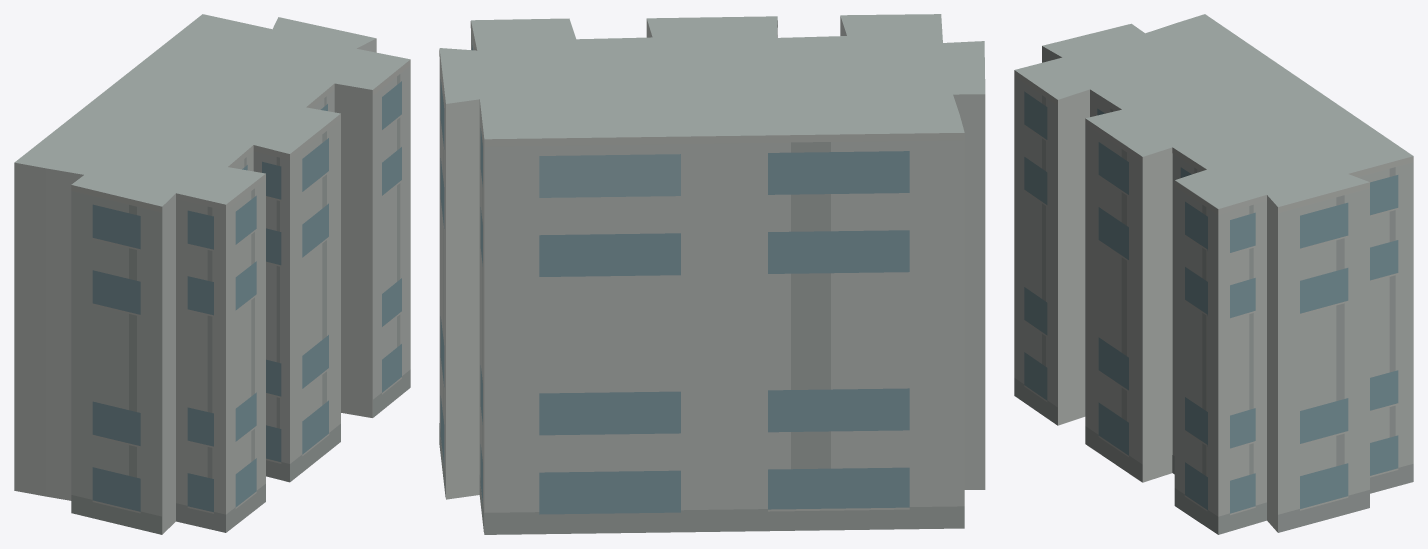
The model's file is survey-upis-32941177.glb.
3 renders of one model, left to right at view 1: azimuth 30°, elevation 25°; view 2: azimuth 150°, elevation 25°; view 3: azimuth 270°, elevation 25°, orthographic. The views are drawn at different scales.
Parts seen in each view (by area): view 1: survey-upis-32941177.tmp; view 2: survey-upis-32941177.tmp; view 3: survey-upis-32941177.tmp.
Part boxes in pixels (x1,y1,x2,y2): survey-upis-32941177.tmp: (14,14,410,534); survey-upis-32941177.tmp: (439,14,985,534); survey-upis-32941177.tmp: (1014,14,1413,534).
Size of the model in its own units: 16.9 by 13.15 by 14.62.
